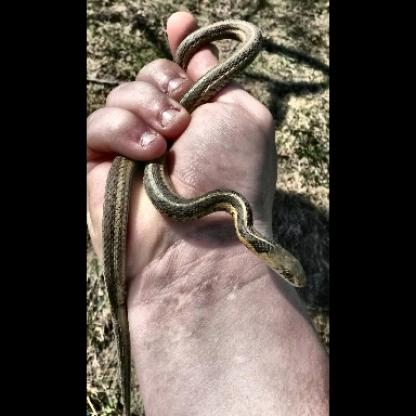Snake: (126, 20, 312, 295)
